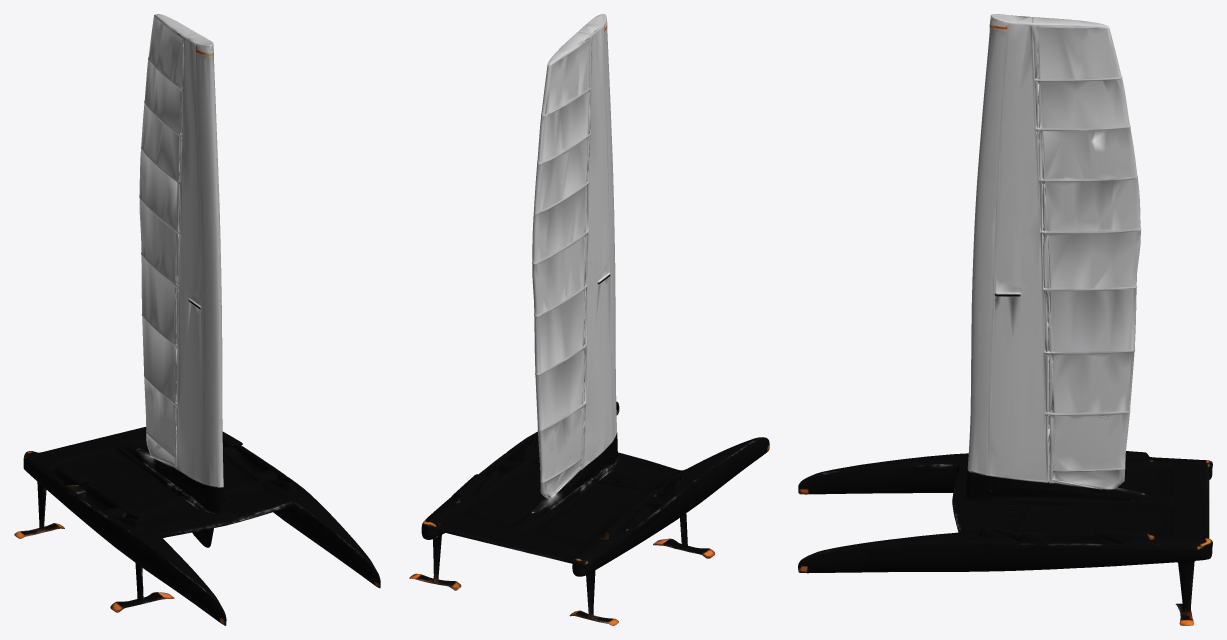
Rendered from item-f50.glb.
3 views of the same model, side by side, from view 1: azimuth 30°, elevation 25°; view 2: azimuth 150°, elevation 25°; view 3: azimuth 270°, elevation 25° (orthographic). The views are drawn at different scales.
Visible parts, largest first — view 1: material; view 2: material; view 3: material.
Part boxes in pixels (bbox=[...]): material: bbox=[14, 14, 380, 625]; material: bbox=[409, 14, 769, 625]; material: bbox=[798, 14, 1212, 625].
Bounding box in the file's own units: 0.3982 × 0.9774 × 0.6559.
Materials: 1 (1 with a texture image).
